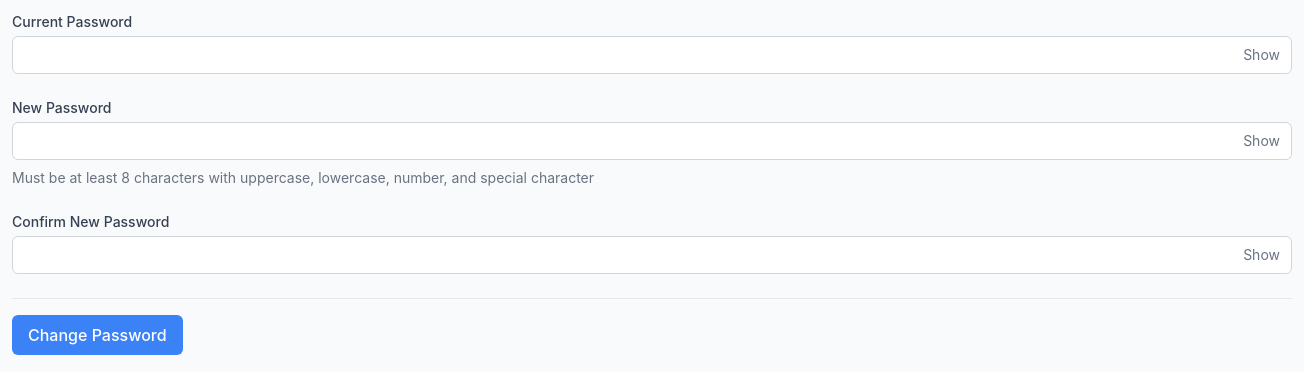
Test: ChangePasswordForm - Security › displays password strength indicator
# Type a weak password
Type "weak" into the password field labelled "New Password" at (652, 141), box [12, 122, 1292, 160]
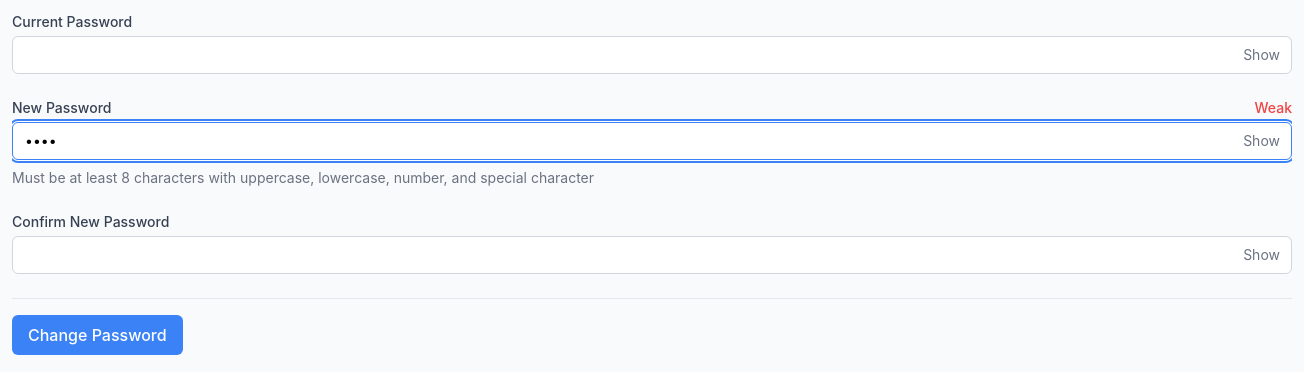
Check: the text "Weak" is shown, box [1254, 98, 1292, 118]
# Clear and type a strong password
Type "StrongP@ss123" into the password field labelled "New Password" at (652, 141), box [12, 122, 1292, 160]
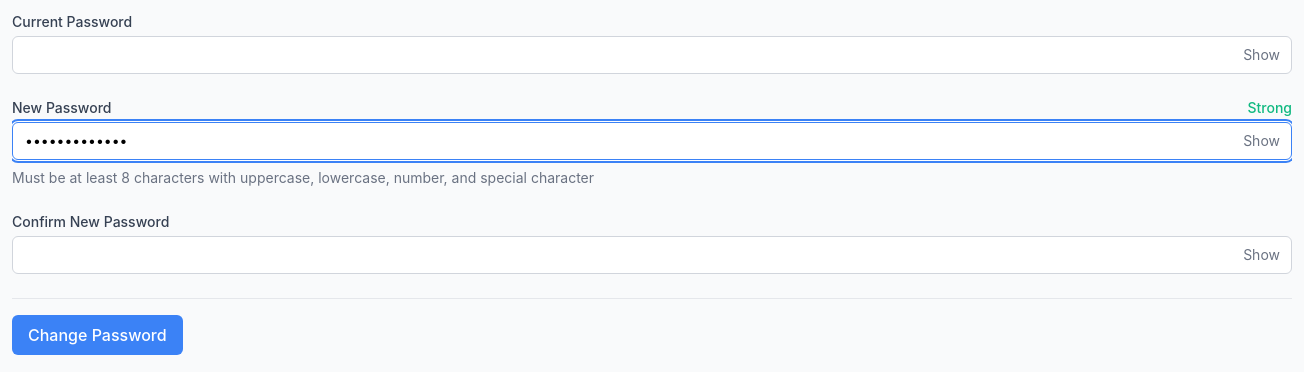
Check: the text "Strong" is shown, box [1248, 98, 1292, 118]
